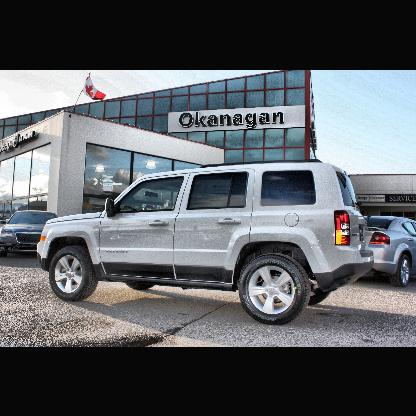Jeep Patriot SUV 2012: (38, 161, 374, 323)
